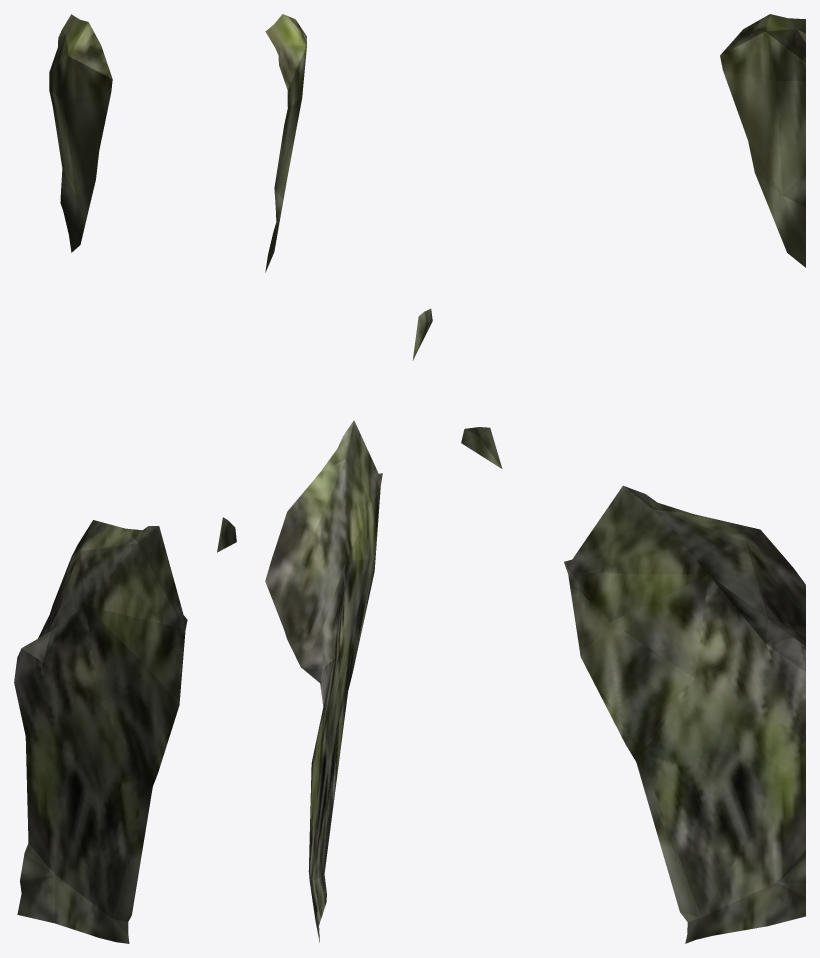
3 renders of one model, left to right at view 1: azimuth 30°, elevation 25°; view 2: azimuth 150°, elevation 25°; view 3: azimuth 270°, elevation 25°, orthographic. The views are drawn at different scales.
Size of the model in its own units: 0.1927 by 2.86 by 0.9623.
Materials: 1 (1 with a texture image).
